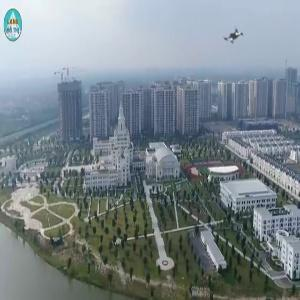drone: (216, 18, 254, 56)
